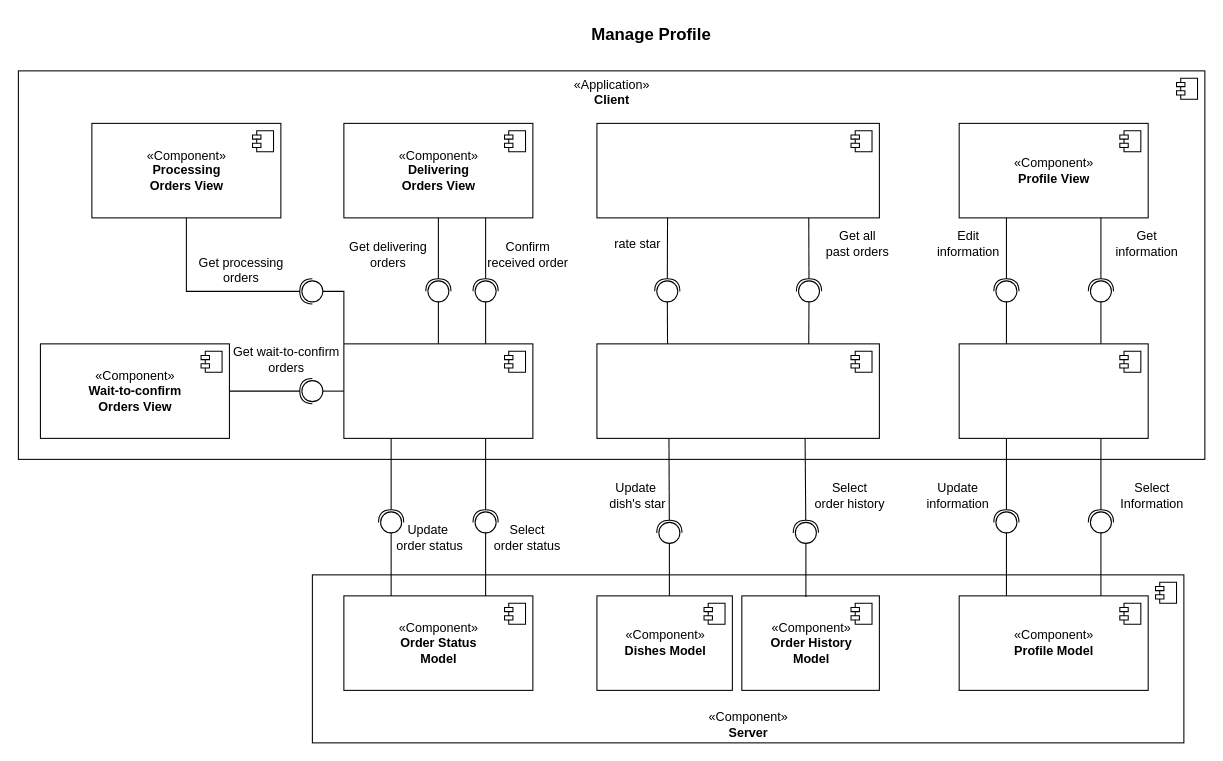
Some shapes in this 1223 by 761 pixel diagram are drawn without their labels. The centre of each missing label's shape, as x and y in pixels:
"«Component» Order History Controller" belongs at pixel 737 390.
"«Component» Order History View" belongs at pixel 737 170.
"«Component» Order Status Controller" belongs at pixel 438 390.
"«Component» Profile Controller" belongs at pixel 1053 390.
